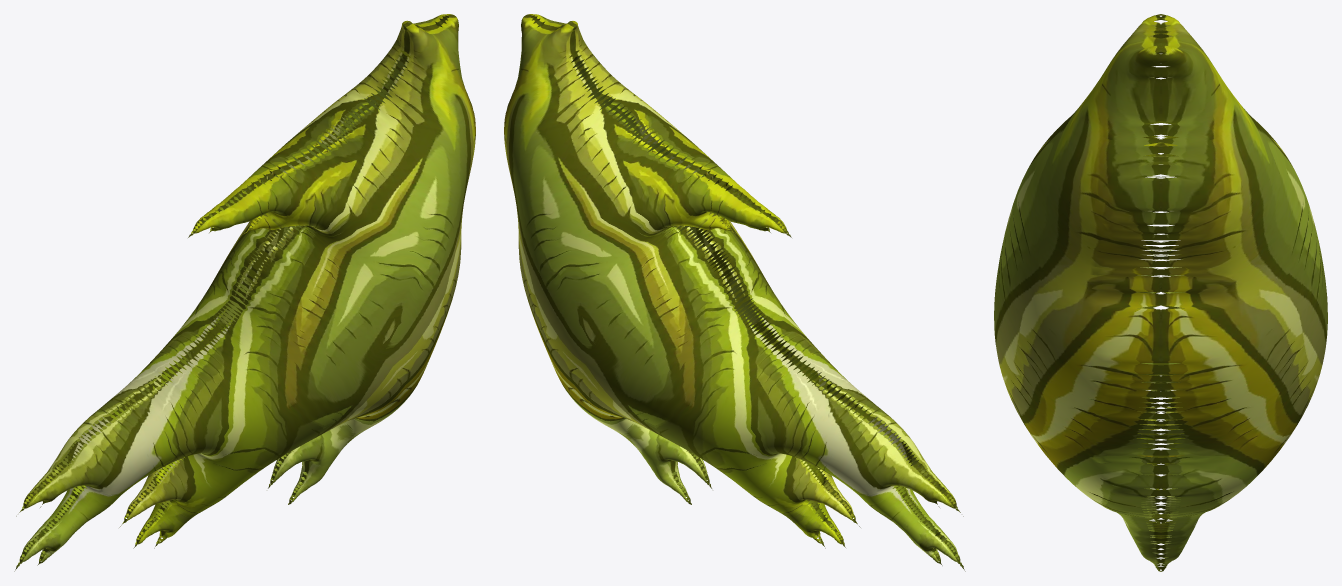
File: buttress_roots.glb
3 views of the same model, side by side, from view 1: azimuth 30°, elevation 25°; view 2: azimuth 150°, elevation 25°; view 3: azimuth 270°, elevation 25° (orthographic). The views are drawn at different scales.
Parts seen in each view (by area): view 1: buttress_roots; view 2: buttress_roots; view 3: buttress_roots.
Boxes of the visible parts, x1,y1,x2,y2 form: buttress_roots: [14, 14, 475, 571]; buttress_roots: [504, 14, 965, 571]; buttress_roots: [994, 14, 1327, 571].
Size of the model in its own units: 0.9801 by 0.9703 by 0.4475.
1 material, 1 textured.
